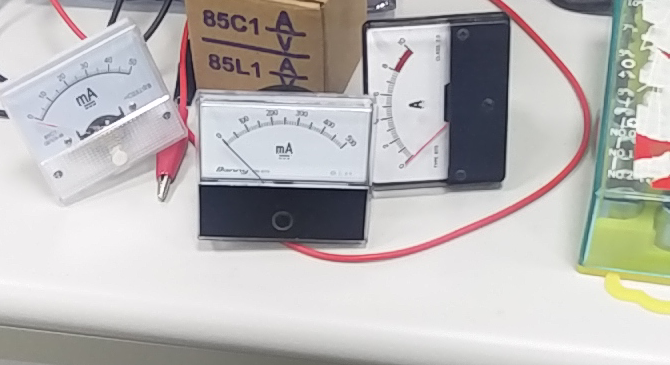Amp_Meter: (369, 20, 449, 189)
MilliAmp_Meter: (10, 19, 166, 167), (199, 90, 371, 190)
